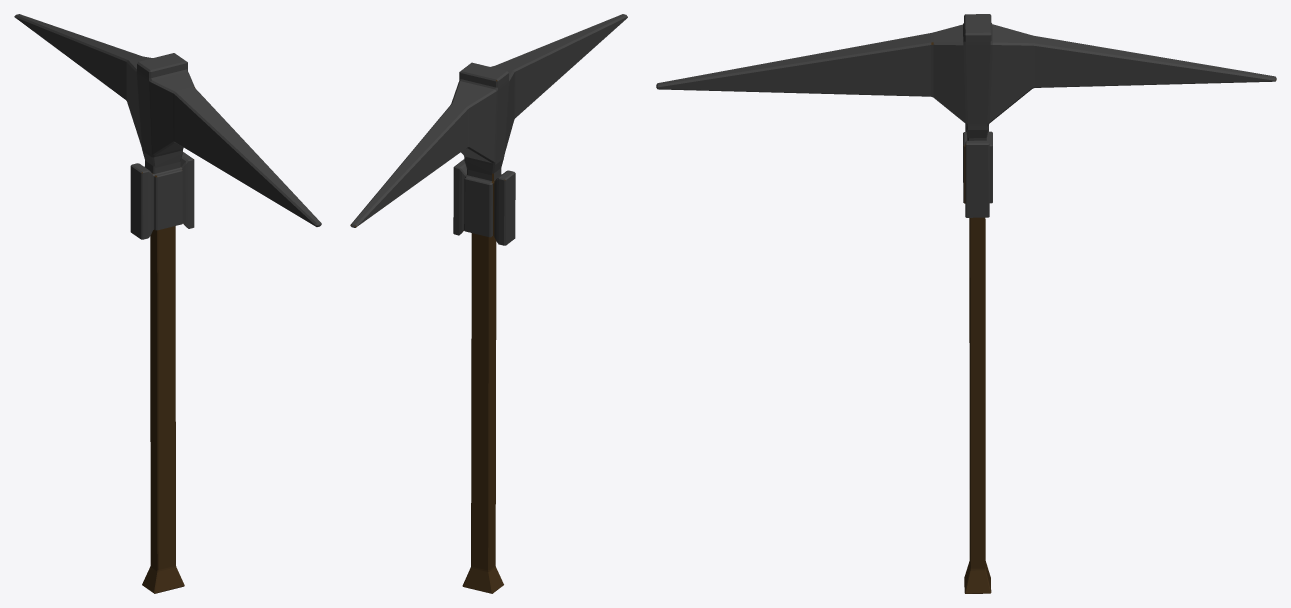
File: pickaxe_bigger.fbx
3 renders of one model, left to right at view 1: azimuth 30°, elevation 25°; view 2: azimuth 150°, elevation 25°; view 3: azimuth 270°, elevation 25°, orthographic. The views are drawn at different scales.
Parts seen in each view (by area): view 1: pickaxe; view 2: pickaxe; view 3: pickaxe.
Part boxes in pixels (bbox=[...]): pickaxe: bbox=[14, 14, 321, 593]; pickaxe: bbox=[350, 14, 627, 593]; pickaxe: bbox=[656, 14, 1276, 593].
Size of the model in its own units: 70 by 70 by 7.5.
